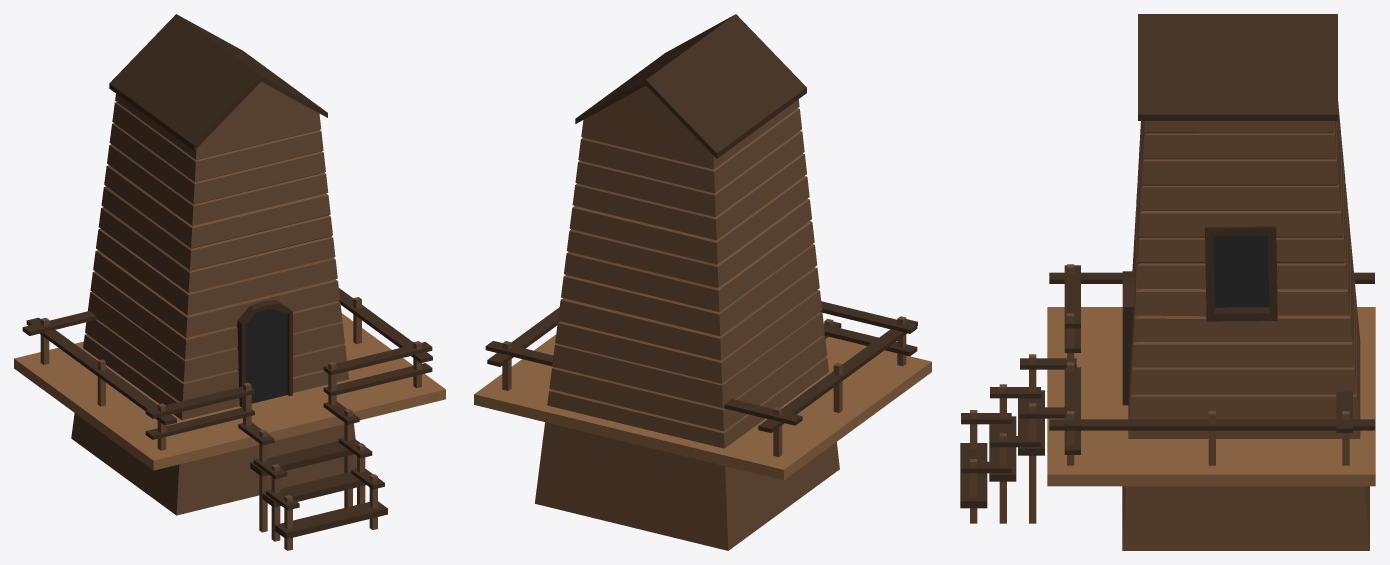
File: windmill_2_mat.fbx
3 renders of one model, left to right at view 1: azimuth 30°, elevation 25°; view 2: azimuth 150°, elevation 25°; view 3: azimuth 270°, elevation 25°, orthographic. The views are drawn at different scales.
Parts seen in each view (by area): view 1: windmill_2_mat; view 2: windmill_2_mat; view 3: windmill_2_mat.
Boxes of the visible parts, x1,y1,x2,y2 form: windmill_2_mat: [14, 14, 445, 550]; windmill_2_mat: [474, 14, 931, 550]; windmill_2_mat: [960, 14, 1375, 550].
Bounding box in the file's own units: 407 × 546 × 424.
